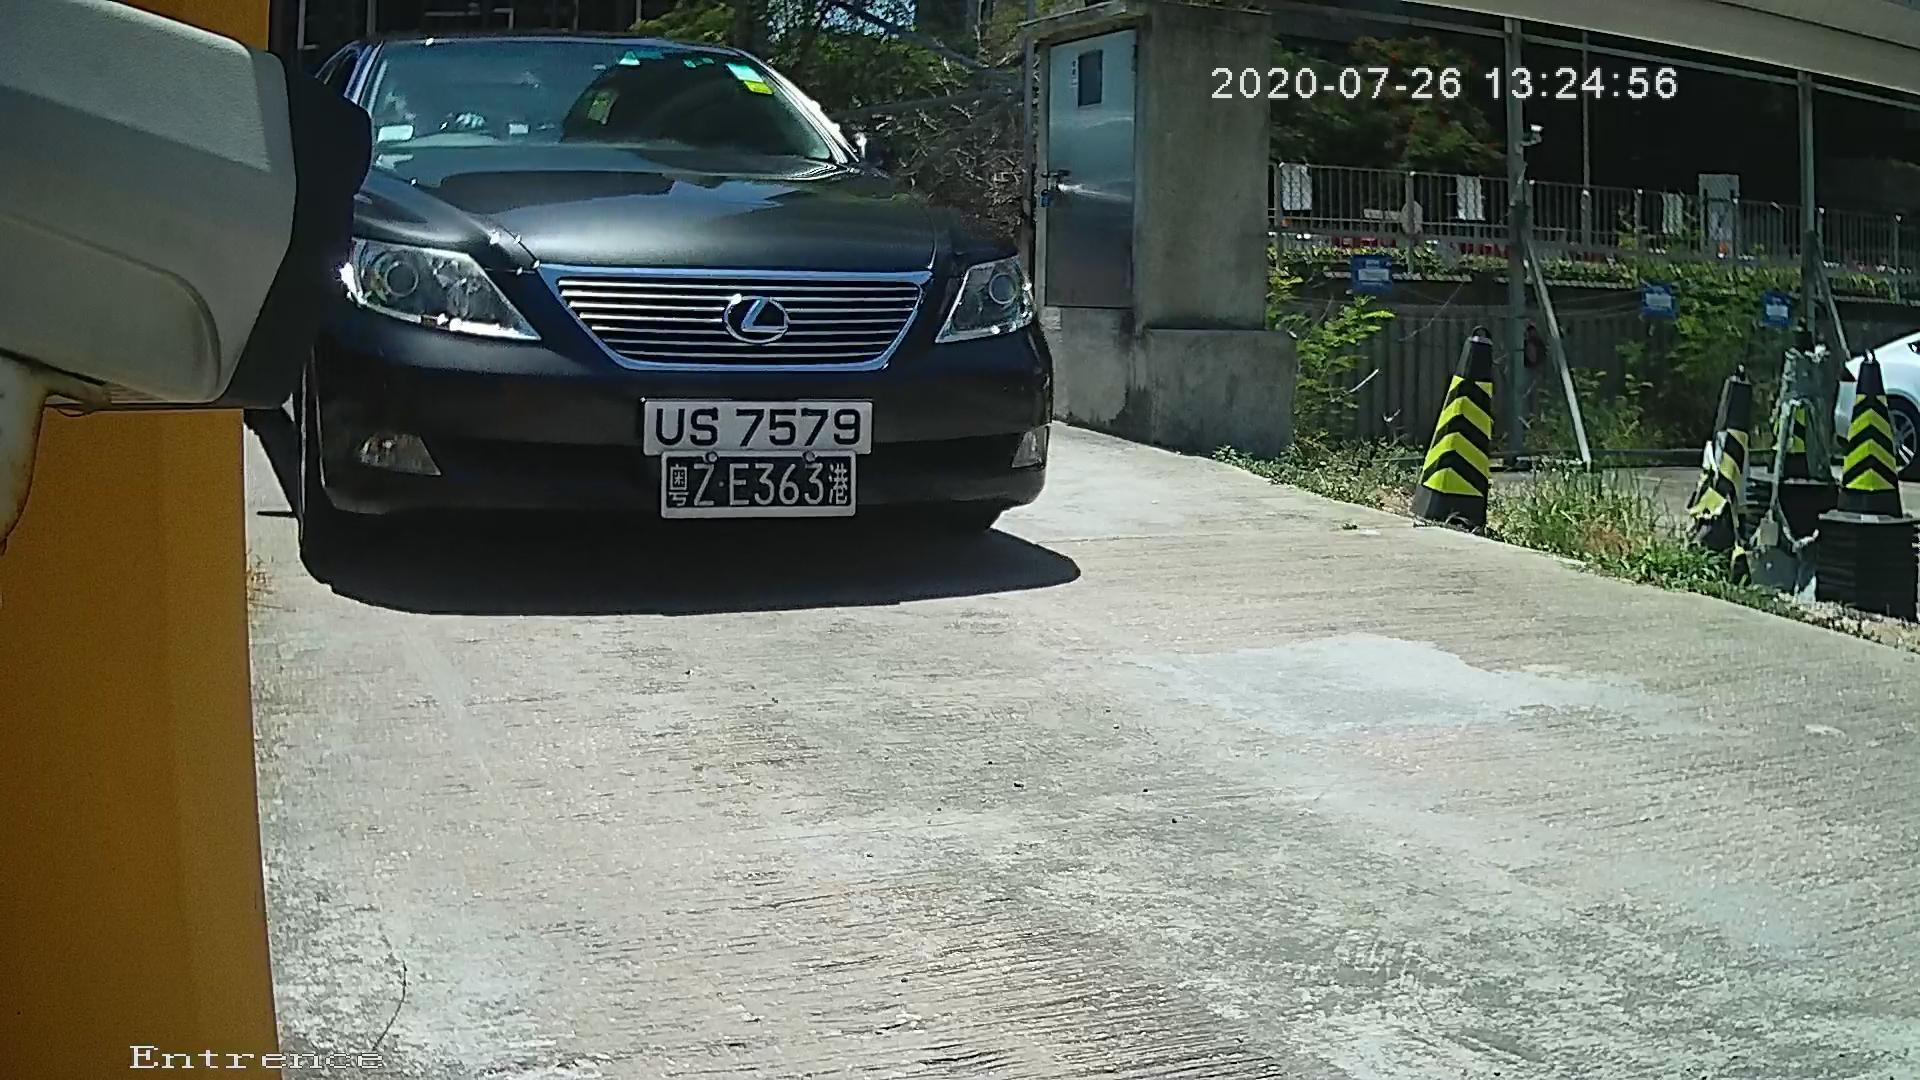privatecar: (223, 20, 1106, 574)
